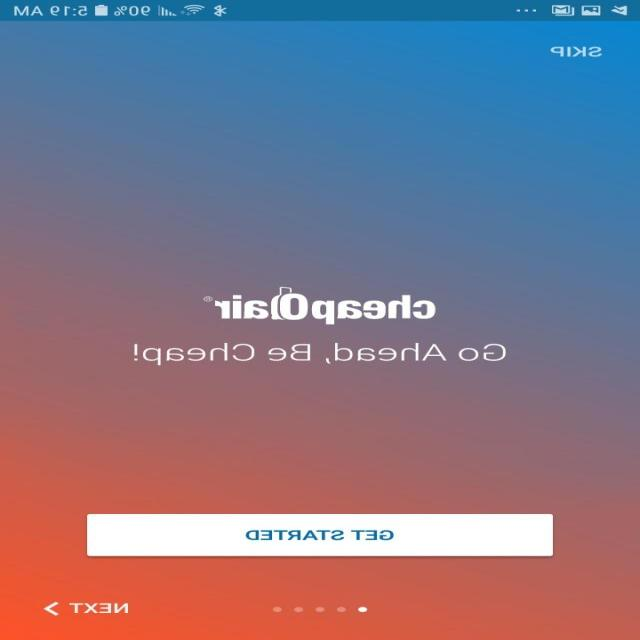Icon: (44, 601, 60, 615)
Image: (204, 286, 436, 325)
Text: (134, 342, 508, 365), (69, 602, 130, 613), (550, 46, 603, 58)
TextButton: (87, 514, 554, 556)
